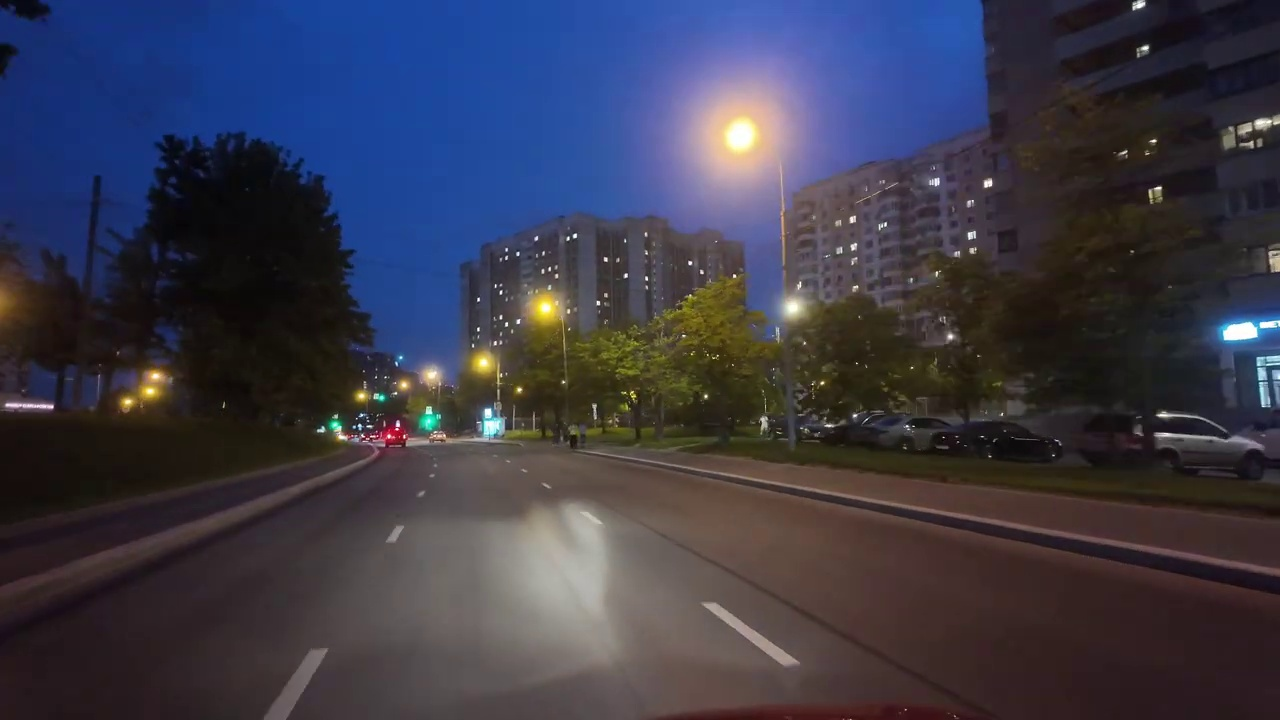acesa: (714, 112, 764, 161), (529, 292, 563, 328), (468, 350, 499, 378), (1, 284, 11, 324)
